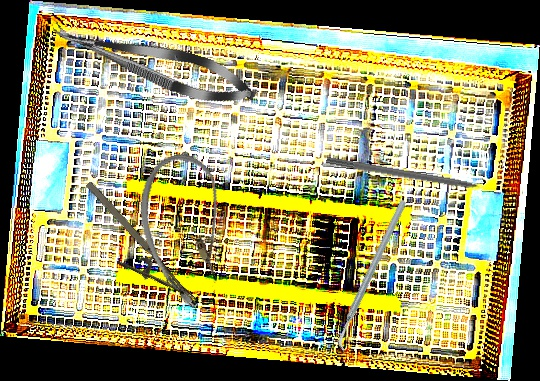Cannula: (124, 146, 250, 315)
Chopper: (291, 198, 453, 355)
Hook Surgical: (325, 155, 500, 197)
Micro Scissor: (45, 10, 262, 116)
Needle Holder: (66, 178, 199, 326)
